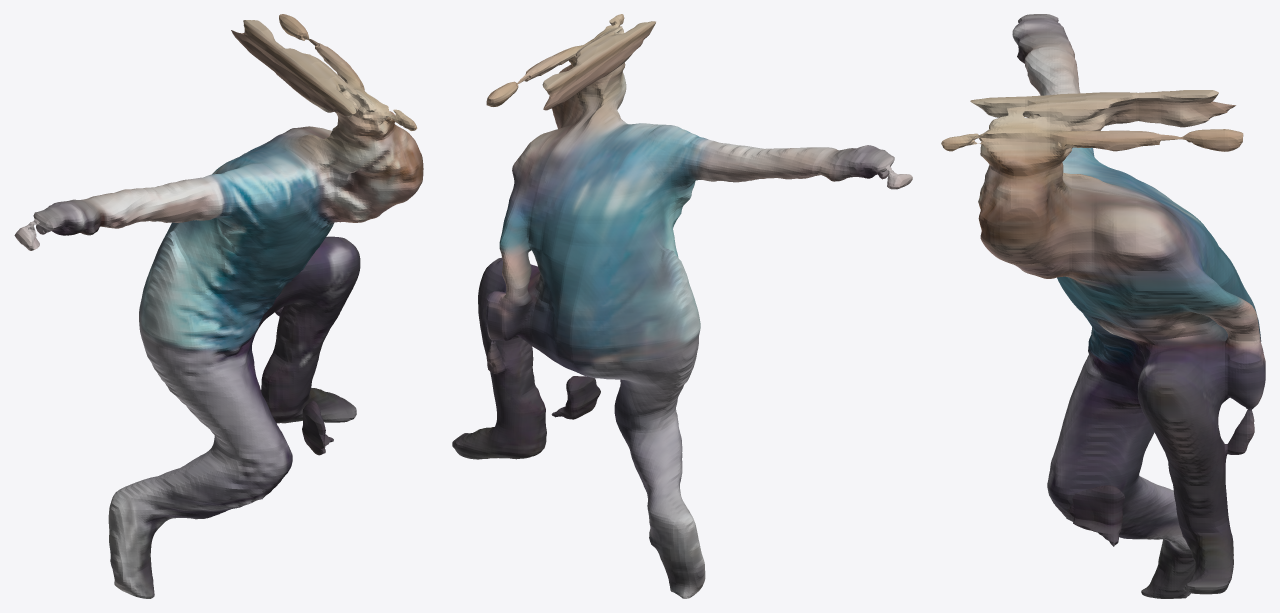
The model's file is 0048_tex.glb.
3 views of the same model, side by side, from view 1: azimuth 30°, elevation 25°; view 2: azimuth 150°, elevation 25°; view 3: azimuth 270°, elevation 25° (orthographic). The views are drawn at different scales.
Parts seen in each view (by area): view 1: 0048_tex.obj; view 2: 0048_tex.obj; view 3: 0048_tex.obj.
Boxes of the visible parts, bbox=[...] form: 0048_tex.obj: bbox=[14, 14, 423, 598]; 0048_tex.obj: bbox=[452, 14, 912, 598]; 0048_tex.obj: bbox=[941, 14, 1265, 598].
Size of the model in its own units: 0.7219 by 0.8893 by 0.4563.
